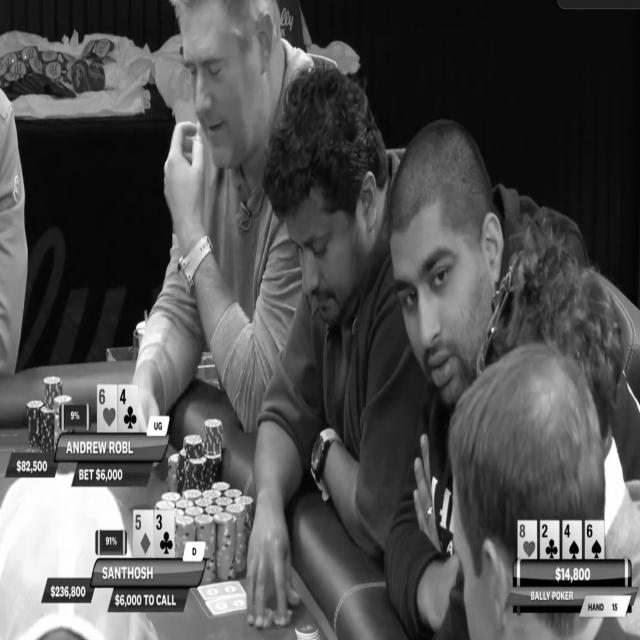2C: (541, 521, 559, 560)
3C: (156, 510, 173, 557)
4C: (119, 386, 137, 432)
4S: (564, 521, 582, 559)
5D: (133, 510, 153, 557)
6H: (98, 385, 117, 432)
6S: (586, 521, 604, 559)
8H: (518, 521, 537, 558)
